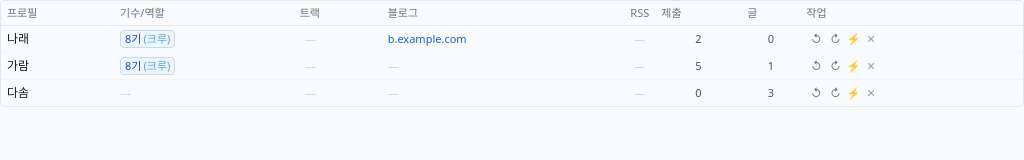
it: MemberTable › should sort by cohort descending with empty values last, then toggle by header
What coordinates should you click on to do the following:
click the column heading "제출"
I would click on:
 (671, 12)
Its box is [655,1,741,26].
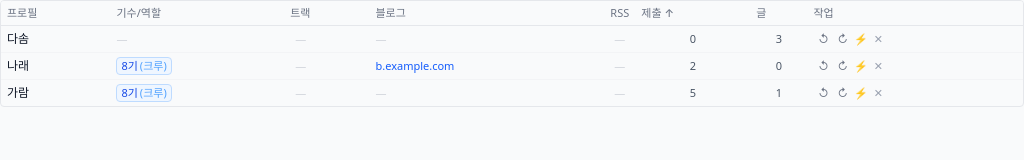
What coordinates should you click on to do the following:
click the column heading "제출 ↑"
I would click on:
 (651, 12)
Its box is [635,1,750,26].
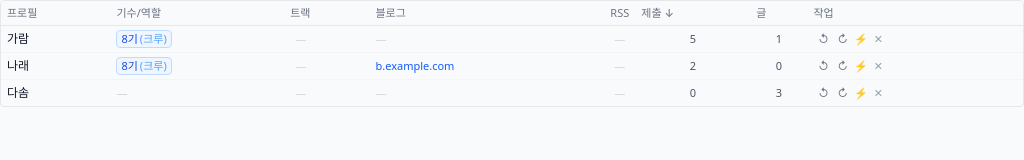
Expected: the column heading "제출 ↓" is shown, [635,1,750,26]
